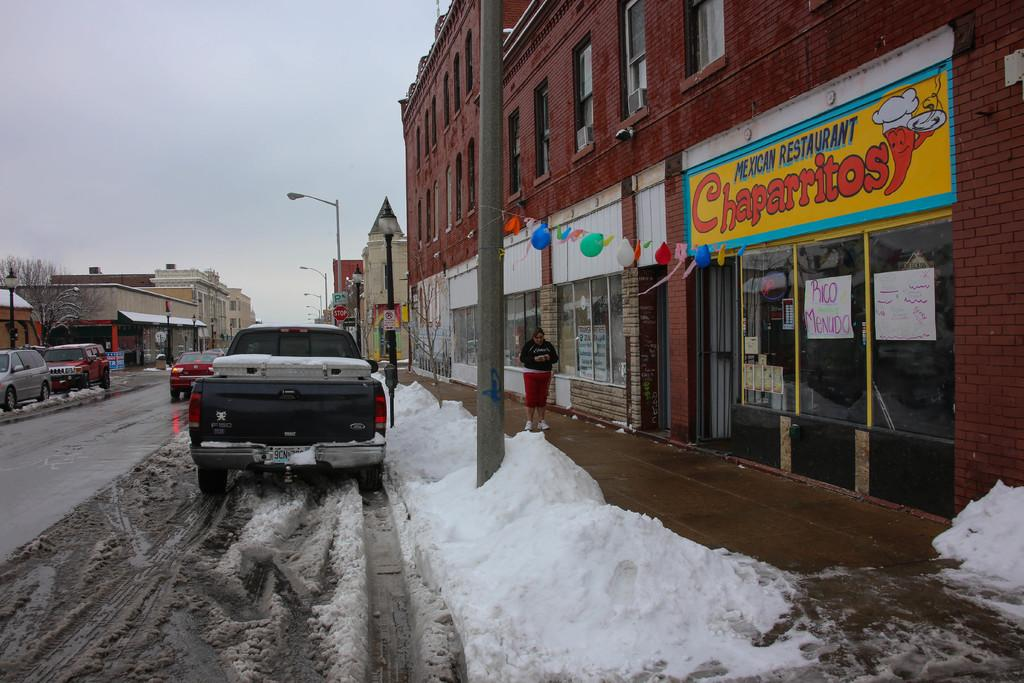Truck: (169, 323, 399, 490)
